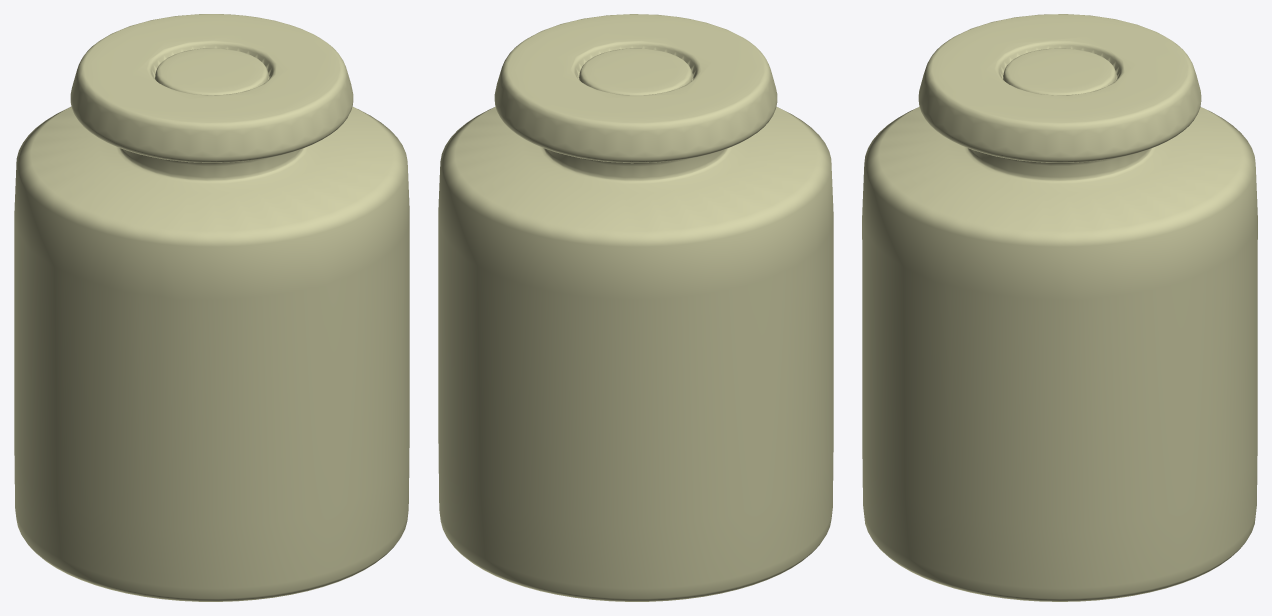
File: weight.glb
The picture shows the model from 3 angles, left to right: view 1: azimuth 30°, elevation 25°; view 2: azimuth 150°, elevation 25°; view 3: azimuth 270°, elevation 25°; orthographic projection.
Visible parts, largest first — view 1: Cylinder; view 2: Cylinder; view 3: Cylinder.
Part boxes in pixels (left/top/right/bottom): Cylinder: left=14, top=14, right=409, bottom=601; Cylinder: left=438, top=14, right=833, bottom=601; Cylinder: left=862, top=14, right=1257, bottom=601.
Bounding box in the file's own units: 1.49 × 1.9 × 1.49.
